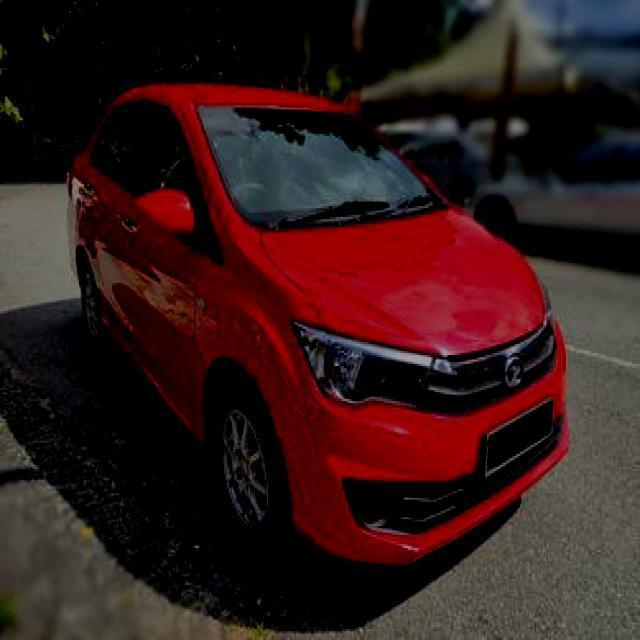PeroduaBezza: (64, 80, 571, 568)
